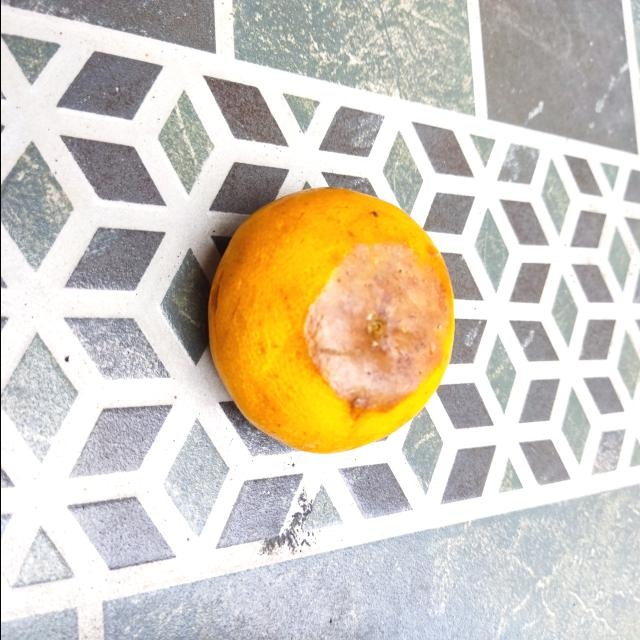agrume: (208, 185, 455, 455)
